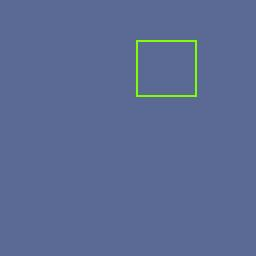Safety Vest: (136, 40, 197, 96)
